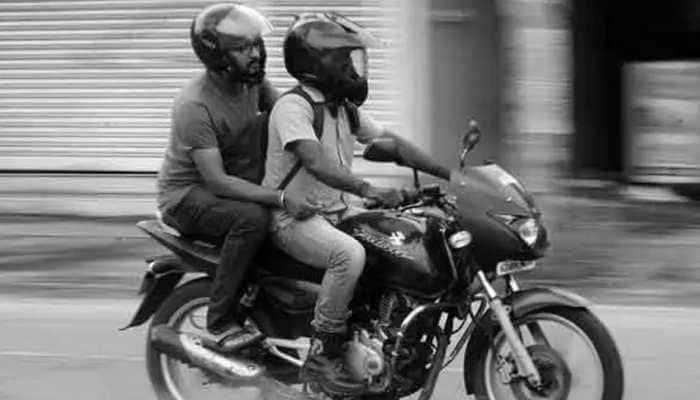Helmet: (284, 10, 384, 106), (192, 3, 277, 90)
